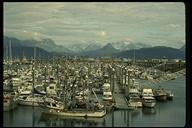boat: (41, 102, 108, 118), (126, 88, 143, 110), (142, 88, 157, 108)
mountain: (5, 26, 182, 55)
sky: (16, 4, 180, 27)
water: (108, 110, 186, 125), (6, 111, 57, 126)
